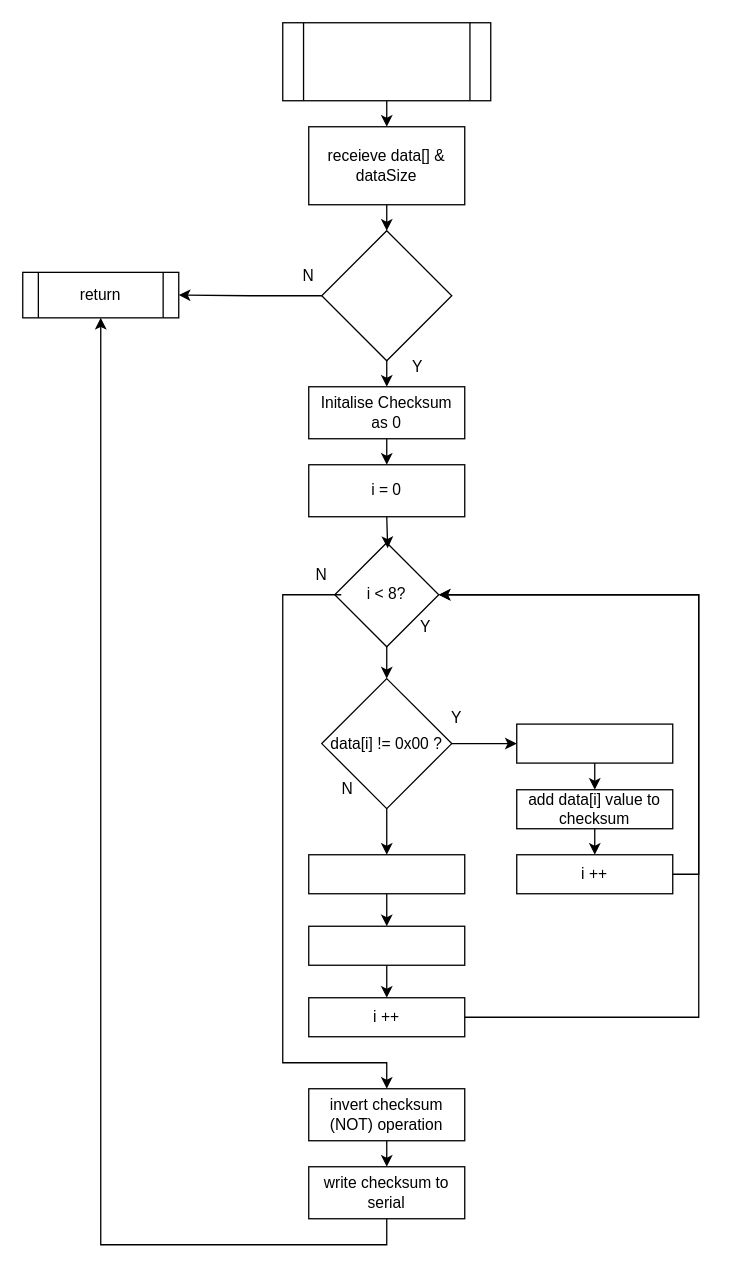
The diagram is 732 pixels wide and 1278 high, and some of its shapes have lost their labels. Each missing label, with the centre of its shape:
"add 0x00 to checksum" goes at point 386,945.
"dataSize > 0?" goes at point 386,295.
"slave_transmit_data" goes at point 386,61.
"write 0x00 (padding) to serial" goes at point 386,873.
"write data[i] to serial" goes at point 594,743.
